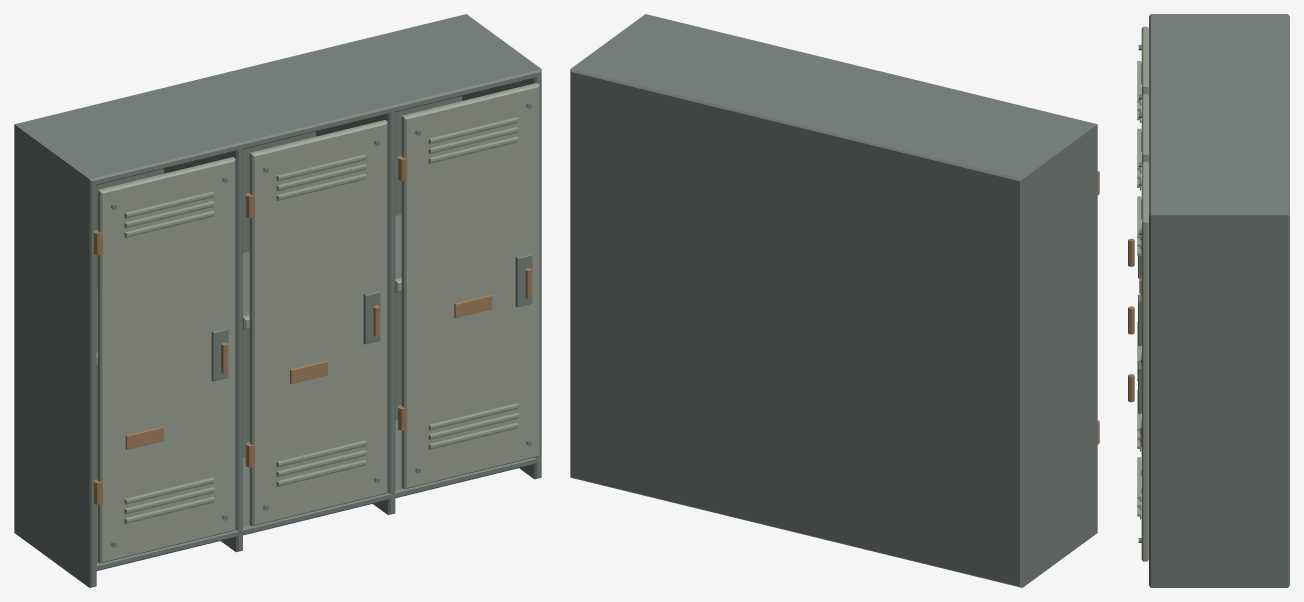
Rendered from WarehouseLocker.fbx.
The picture shows the model from 3 angles, left to right: view 1: azimuth 30°, elevation 25°; view 2: azimuth 150°, elevation 25°; view 3: azimuth 270°, elevation 25°; orthographic projection. The views are drawn at different scales.
Visible parts, largest first — view 1: Cabinet__Steel, LockerDoor2__WornSteel, LockerDoor0__WornSteel, LockerDoor1__WornSteel, LockerDoor0__Rust, LockerDoor2__Rust, LockerDoor1__Rust, LockerDoor2__ConcreteDark, LockerDoor0__ConcreteDark, LockerDoor1__ConcreteDark, LockerDoor1__Steel, LockerDoor2__Steel (+1 smaller); view 2: Cabinet__Steel; view 3: Cabinet__Steel, LockerDoor2__WornSteel, LockerDoor1__WornSteel, LockerDoor0__WornSteel, LockerDoor2__Steel, LockerDoor0__Rust, LockerDoor1__Steel, LockerDoor2__Rust.
Boxes of the visible parts, box(x1,y1,x2,y2) form: Cabinet__Steel: box(14, 14, 541, 587); LockerDoor2__WornSteel: box(401, 82, 539, 489); LockerDoor0__WornSteel: box(97, 157, 235, 563); LockerDoor1__WornSteel: box(249, 120, 387, 526); LockerDoor0__Rust: box(93, 229, 227, 504); LockerDoor2__Rust: box(398, 155, 531, 430); LockerDoor1__Rust: box(245, 192, 379, 467); LockerDoor2__ConcreteDark: box(428, 121, 517, 449); LockerDoor0__ConcreteDark: box(124, 196, 213, 523); LockerDoor1__ConcreteDark: box(276, 159, 365, 486); LockerDoor1__Steel: box(263, 140, 380, 510); LockerDoor2__Steel: box(415, 102, 532, 473); Cabinet__Steel: box(570, 14, 1097, 587); Cabinet__Steel: box(1149, 14, 1289, 587); LockerDoor2__WornSteel: box(1137, 162, 1148, 561); LockerDoor1__WornSteel: box(1137, 94, 1148, 448); LockerDoor0__WornSteel: box(1137, 26, 1148, 380); LockerDoor2__Steel: box(1138, 180, 1141, 542); LockerDoor0__Rust: box(1128, 63, 1141, 294); LockerDoor1__Steel: box(1138, 113, 1141, 474); LockerDoor2__Rust: box(1128, 198, 1141, 446).
Size of what is drawn, in the model's own units: 2.2 by 1.9 by 0.747.
